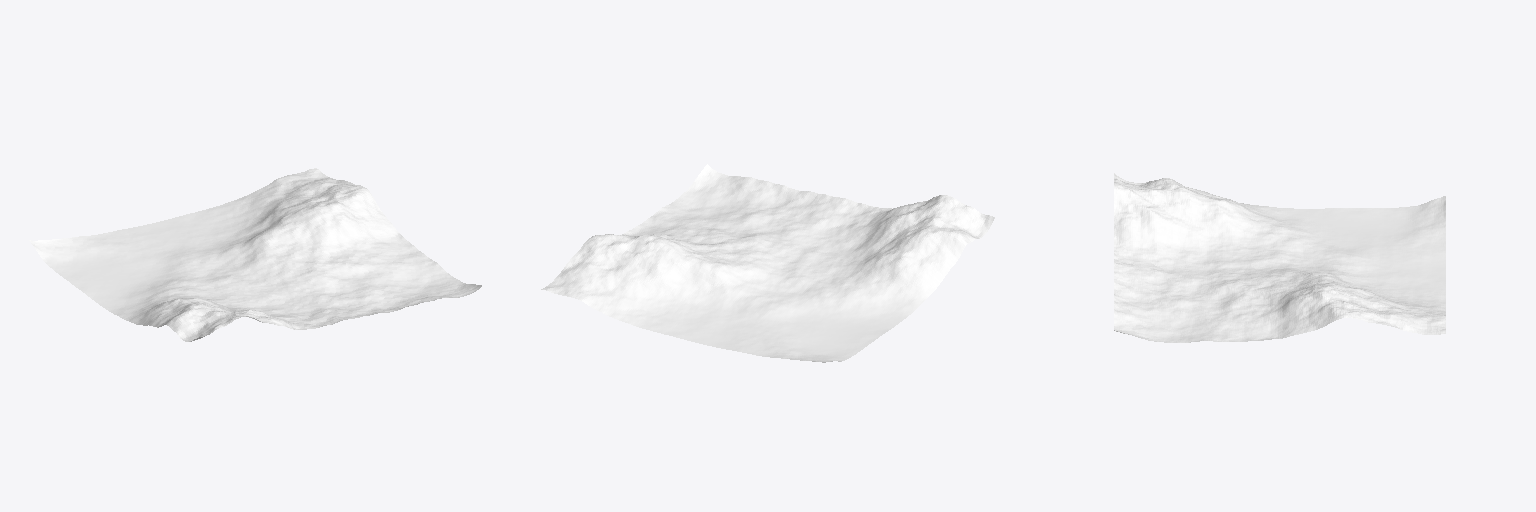
Rendered from terrain.obj.
3 views of the same model, side by side, from view 1: azimuth 30°, elevation 25°; view 2: azimuth 150°, elevation 25°; view 3: azimuth 270°, elevation 25° (orthographic).
Parts seen in each view (by area): view 1: Terrain; view 2: Terrain; view 3: Terrain.
Boxes of the visible parts, x1,y1,x2,y2 form: Terrain: [29, 168, 481, 341]; Terrain: [541, 164, 994, 362]; Terrain: [1114, 173, 1445, 342].
Bounding box in the file's own units: 192 × 29.69 × 192.